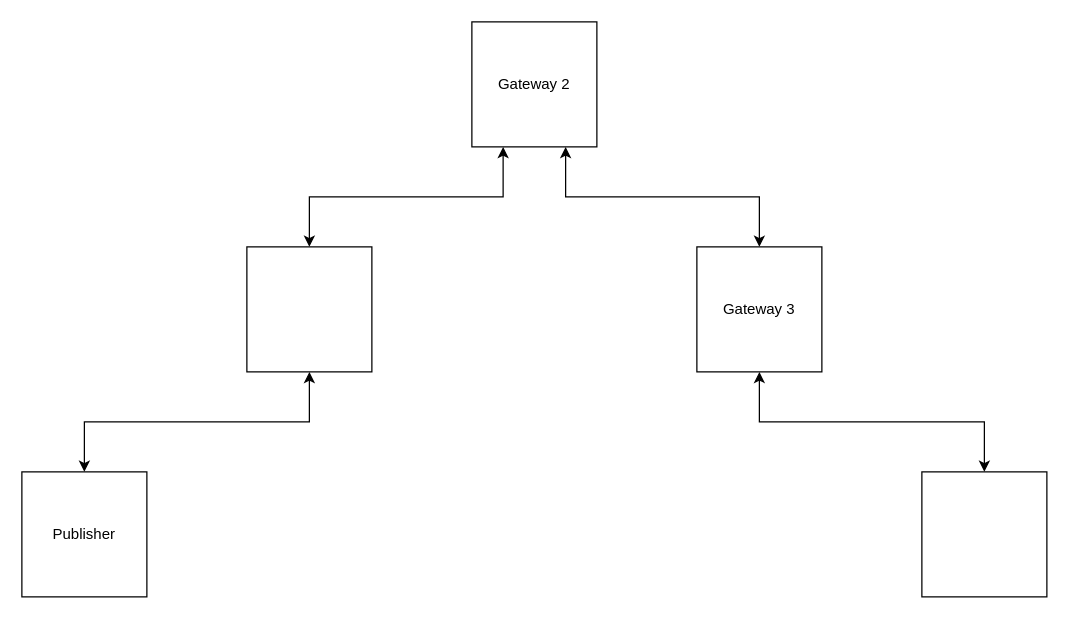
Some shapes in this 1069 by 619 pixel diagram are drawn without their labels. Each missing label, with the centre of its shape:
Gateway 1: point 309,309
Subscriber: point 984,534
